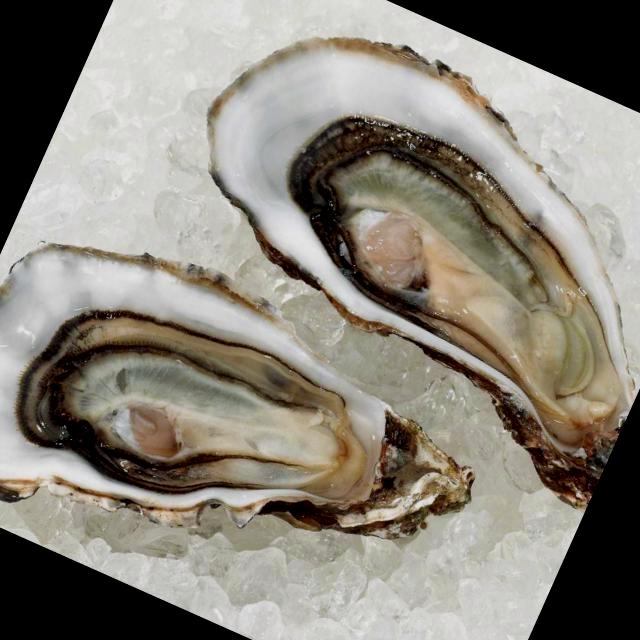Oyster-Open: (208, 37, 639, 504), (0, 244, 472, 535)
